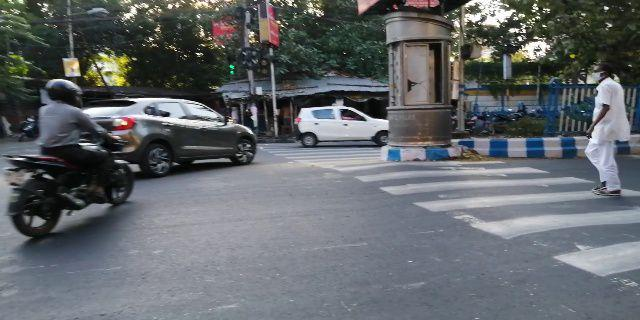Car: (86, 96, 258, 174), (292, 102, 388, 146)
Motorbike: (5, 76, 135, 237)
